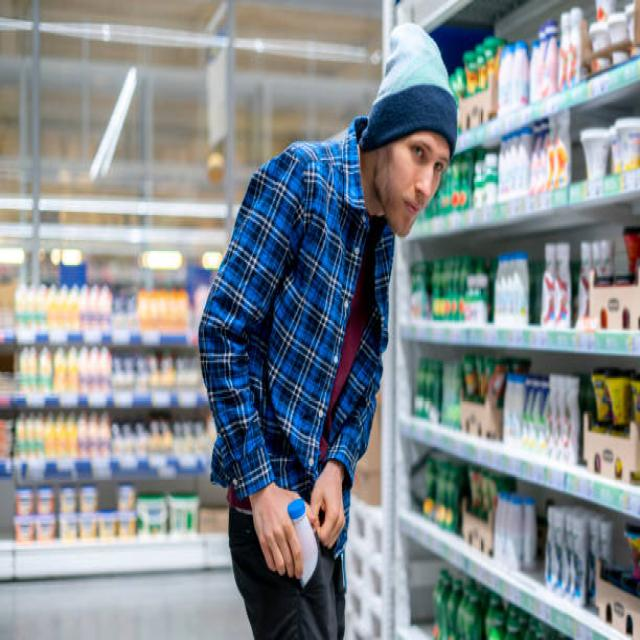article: (288, 502, 317, 585)
hands: (249, 482, 301, 576), (310, 460, 343, 546), (306, 505, 317, 527)
person: (199, 27, 455, 637)
